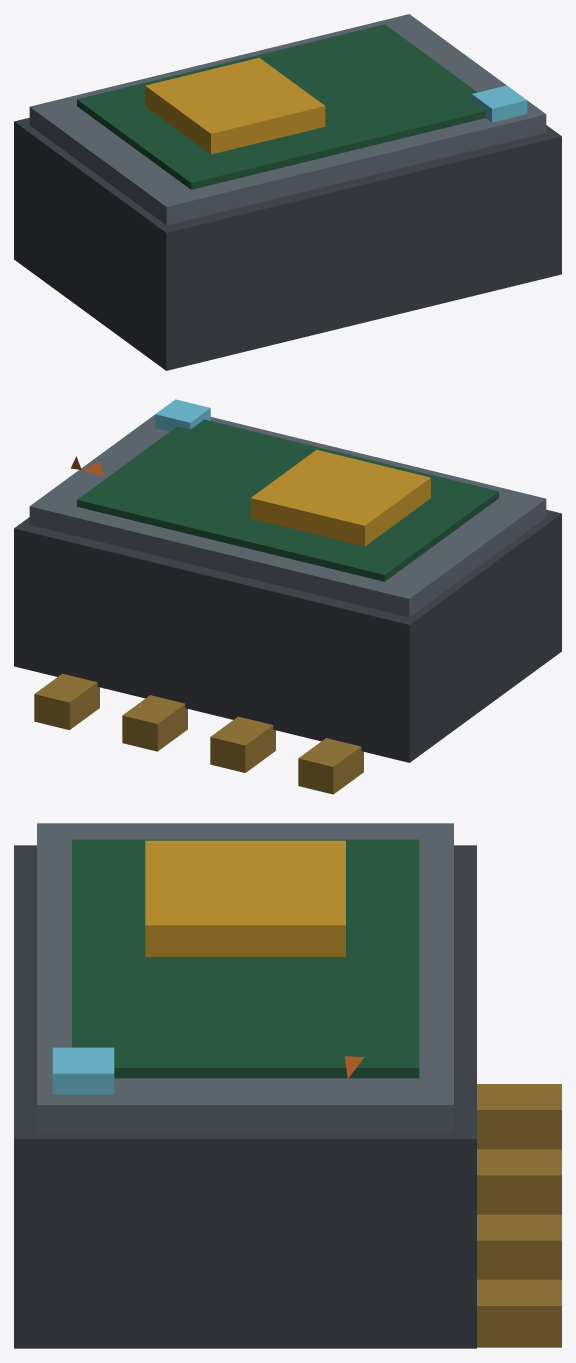
The model's file is droid-reflex-protocol-mk-3.lod.glb.
3 renders of one model, top to bottom at view 1: azimuth 30°, elevation 25°; view 2: azimuth 150°, elevation 25°; view 3: azimuth 270°, elevation 25°, orthographic. The views are drawn at different scales.
Parts seen in each view (by area): view 1: m; view 2: m; view 3: m.
Boxes of the visible parts, x1=… form: m: x1=14, y1=14, x2=561, y2=370; m: x1=14, y1=399, x2=561, y2=794; m: x1=14, y1=823, x2=561, y2=1348.
Size of the model in its own units: 0.1 by 0.05 by 0.0789.
